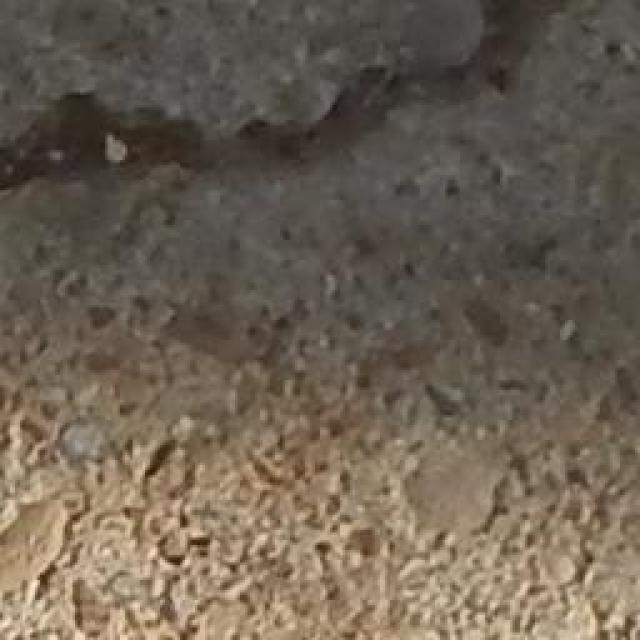concrete-crack: (0, 0, 570, 200)
